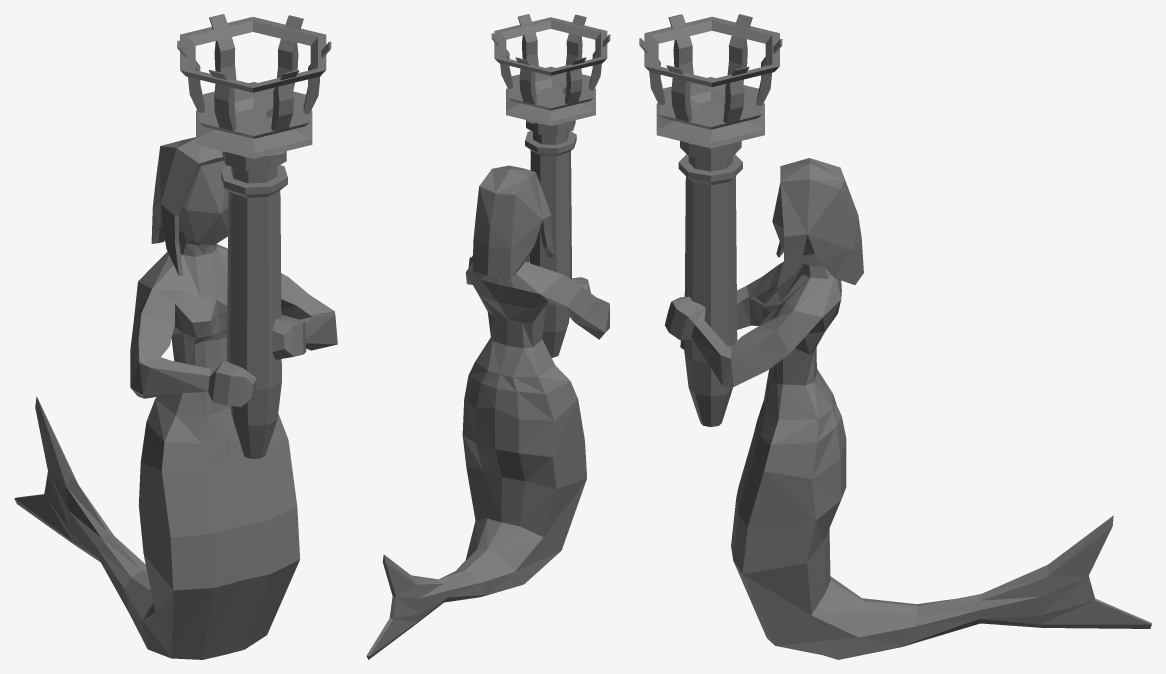
The model's file is Torch.fbx.
The picture shows the model from 3 angles, left to right: view 1: azimuth 30°, elevation 25°; view 2: azimuth 150°, elevation 25°; view 3: azimuth 270°, elevation 25°; orthographic projection. The views are drawn at different scales.
Visible parts, largest first — view 1: Plane006; view 2: Plane006; view 3: Plane006.
Part boxes in pixels (left/top/right/bottom): Plane006: left=14, top=14, right=337, bottom=659; Plane006: left=366, top=14, right=610, bottom=659; Plane006: left=639, top=14, right=1151, bottom=659.
Size of the model in its own units: 35.57 by 118 by 89.62.
Materials: 1 (1 with a texture image).
